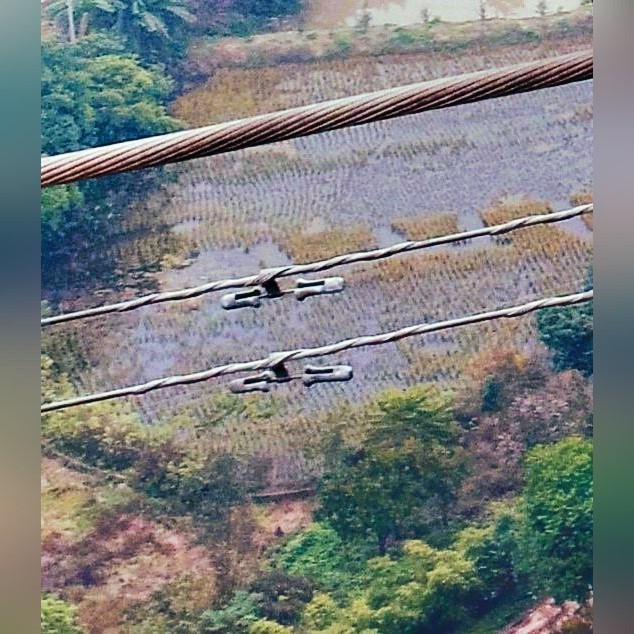Shockproof hammer: (213, 250, 351, 314), (222, 339, 358, 403)
